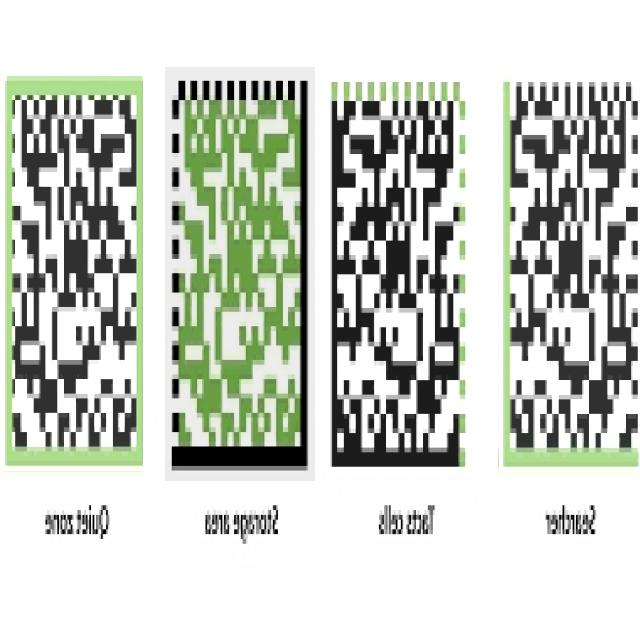DataMatrix: (165, 68, 315, 482), (328, 68, 474, 476), (2, 68, 148, 472), (498, 72, 638, 472)
